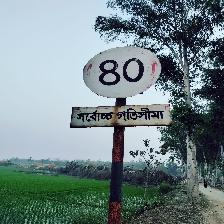Speed-limit: (72, 45, 170, 128)
